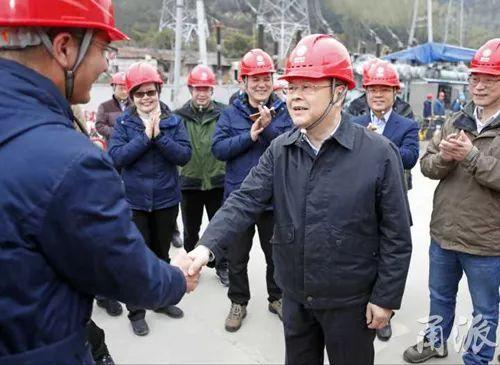helmet: (1, 1, 138, 41), (280, 34, 358, 82), (472, 37, 500, 78), (238, 50, 276, 79), (364, 63, 405, 89), (126, 65, 164, 93), (188, 64, 217, 89), (110, 74, 128, 88)
